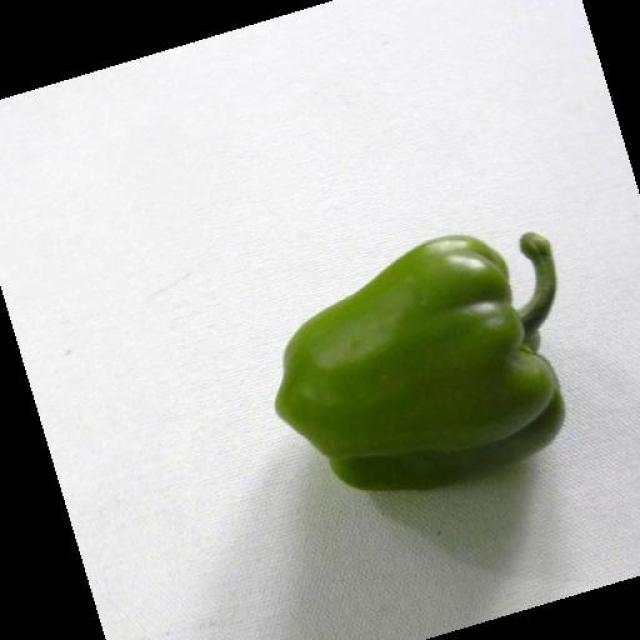Fresh_Capsicum: (267, 233, 576, 465)
